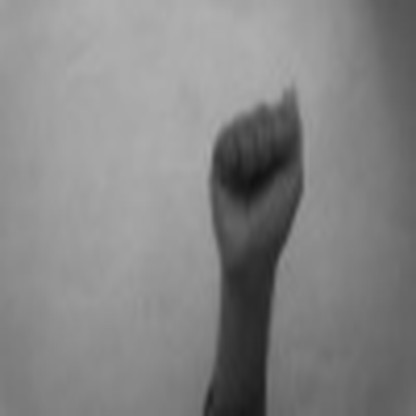a: (201, 74, 310, 257)
